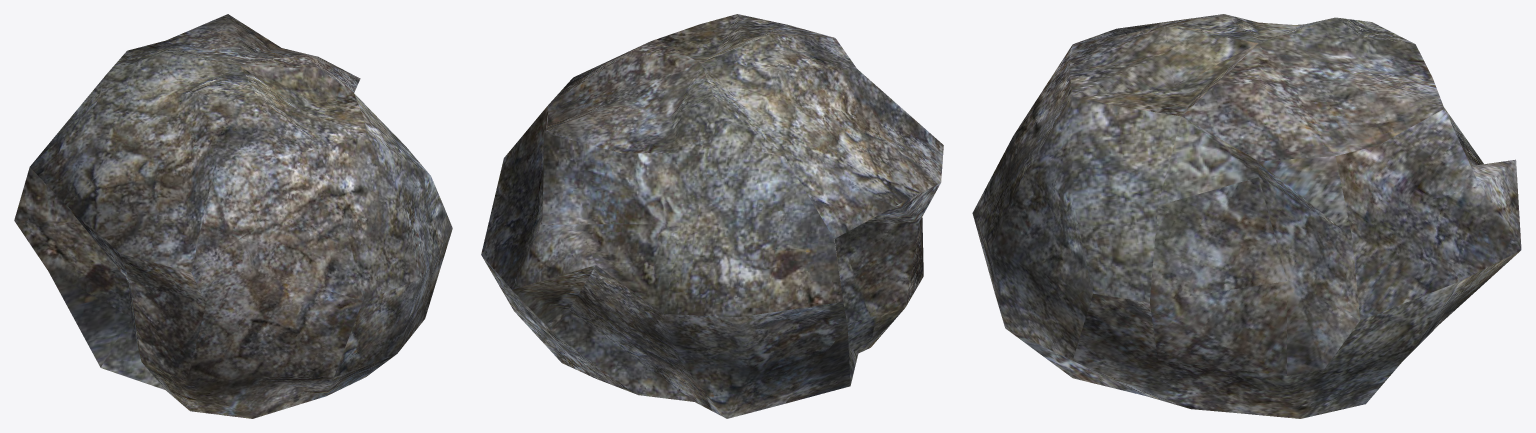
File: Boulder.fbx
3 renders of one model, left to right at view 1: azimuth 30°, elevation 25°; view 2: azimuth 150°, elevation 25°; view 3: azimuth 270°, elevation 25°, orthographic. The views are drawn at different scales.
Parts seen in each view (by area): view 1: Sphere001; view 2: Sphere001; view 3: Sphere001.
Boxes of the visible parts, x1=… form: Sphere001: x1=14, y1=14, x2=452, y2=418; Sphere001: x1=481, y1=14, x2=943, y2=418; Sphere001: x1=972, y1=14, x2=1521, y2=418.
Bounding box in the file's own units: 16.44 × 13.24 × 19.9.
